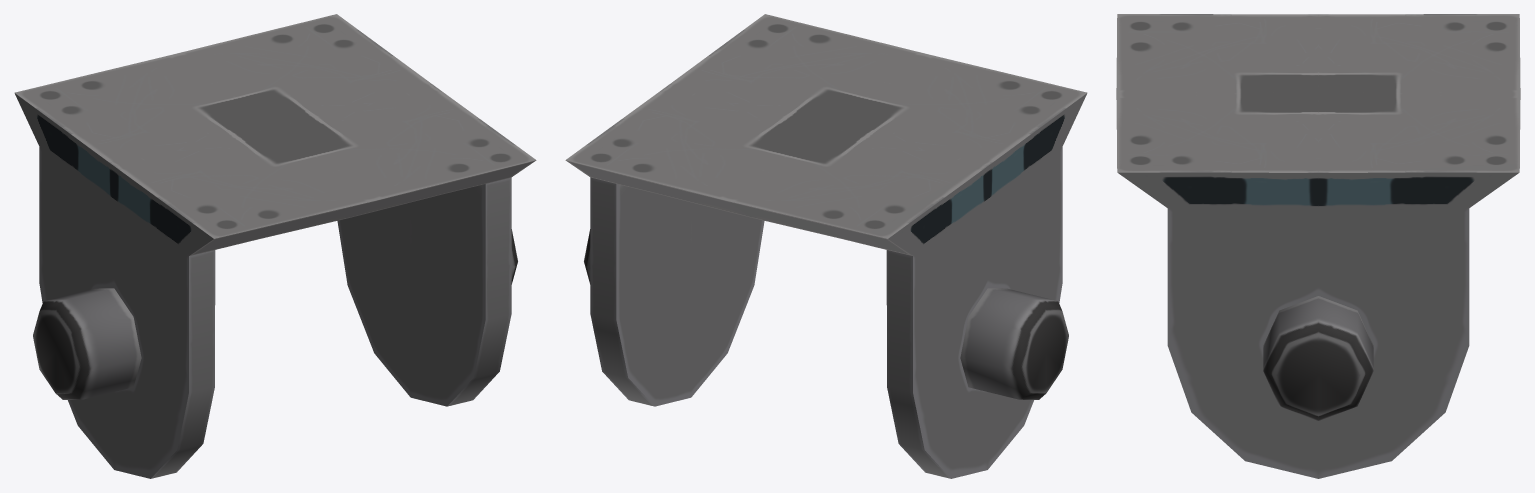
File: HybridTech02.fbx
3 views of the same model, side by side, from view 1: azimuth 30°, elevation 25°; view 2: azimuth 150°, elevation 25°; view 3: azimuth 270°, elevation 25° (orthographic).
Parts seen in each view (by area): view 1: HybridHinge021; view 2: HybridHinge021; view 3: HybridHinge021.
Boxes of the visible parts, x1,y1,x2,y2 form: HybridHinge021: [14, 14, 536, 478]; HybridHinge021: [565, 14, 1087, 478]; HybridHinge021: [1116, 14, 1520, 478].
Bounding box in the file's own units: 34.86 × 23.03 × 27.53.
